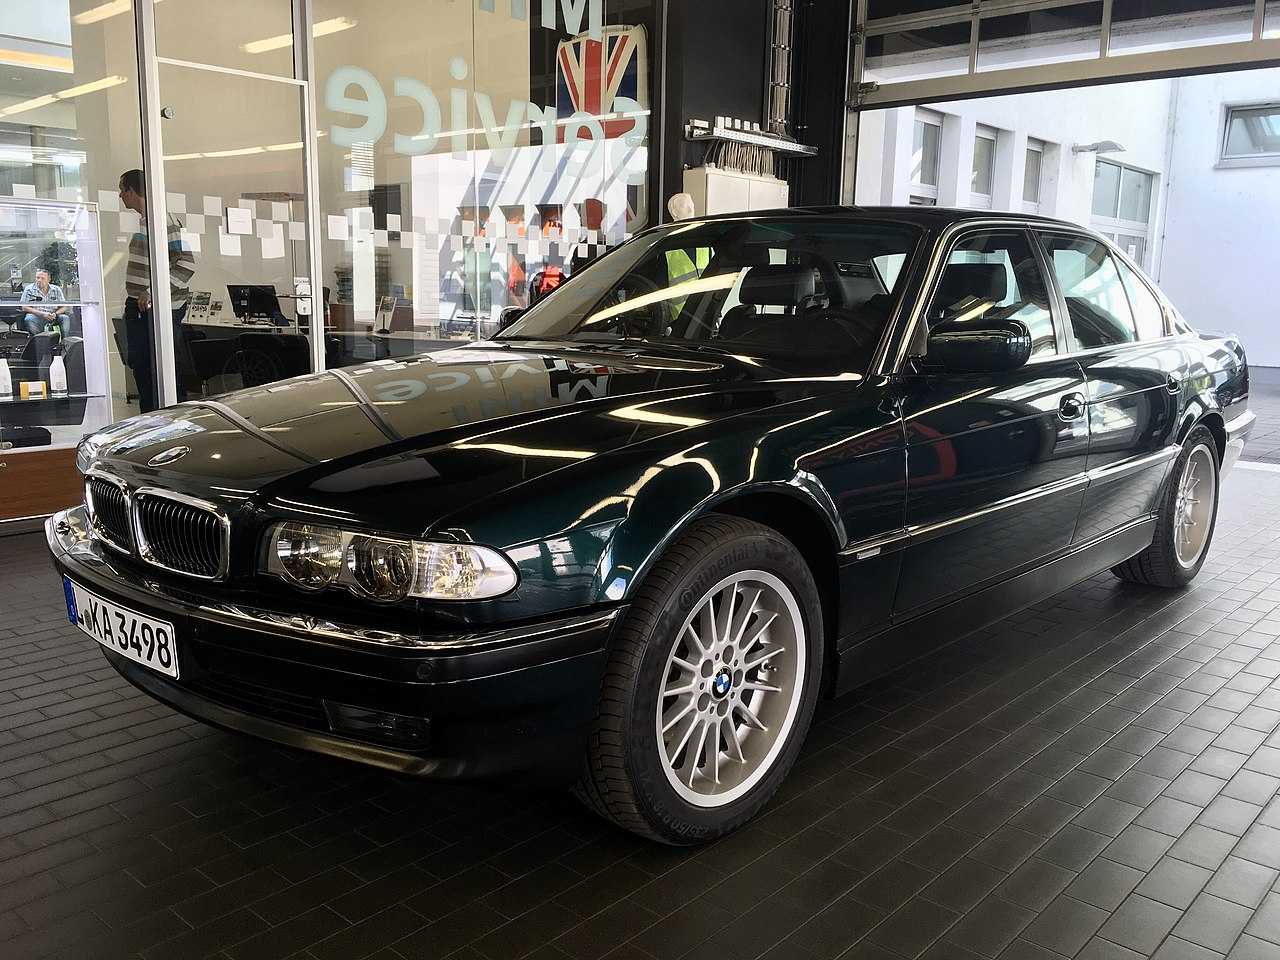plate: (61, 572, 181, 684)
